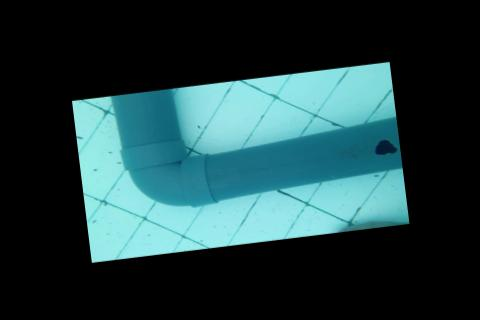kebocoran: (371, 136, 399, 156)
